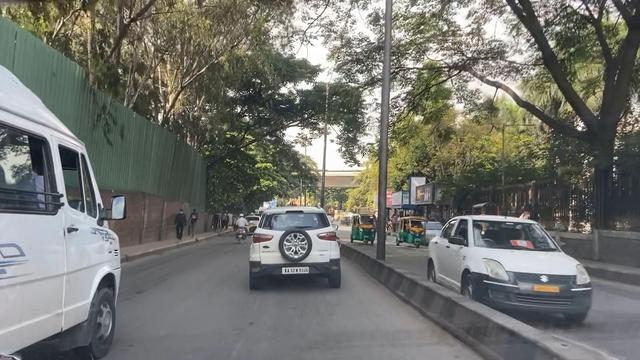HMV: (0, 68, 136, 360)
LMV: (238, 205, 346, 291)
